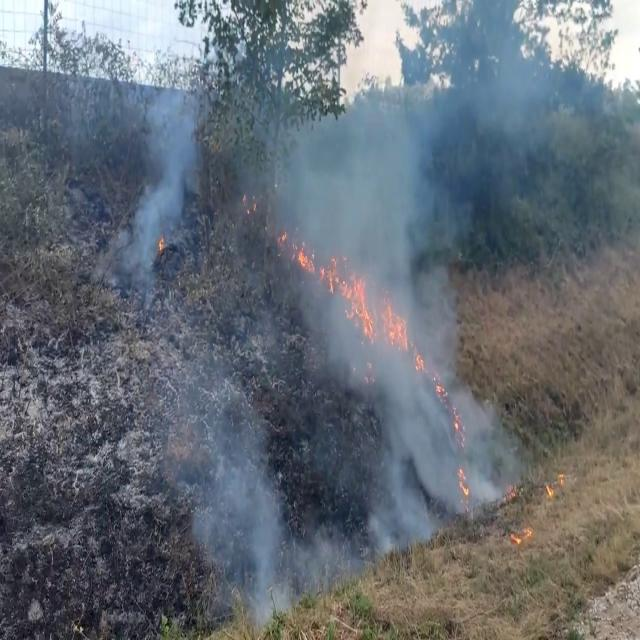Fire: (338, 252, 374, 342)
Smoke: (265, 16, 511, 560), (130, 338, 310, 632), (120, 29, 207, 294)
